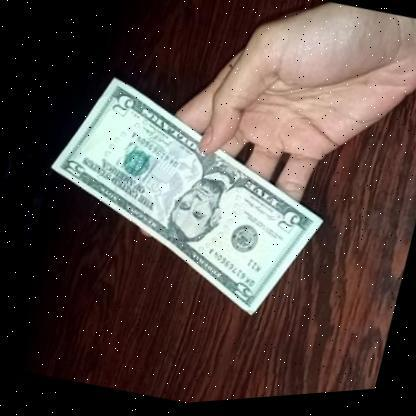five-front: (19, 53, 352, 347)
